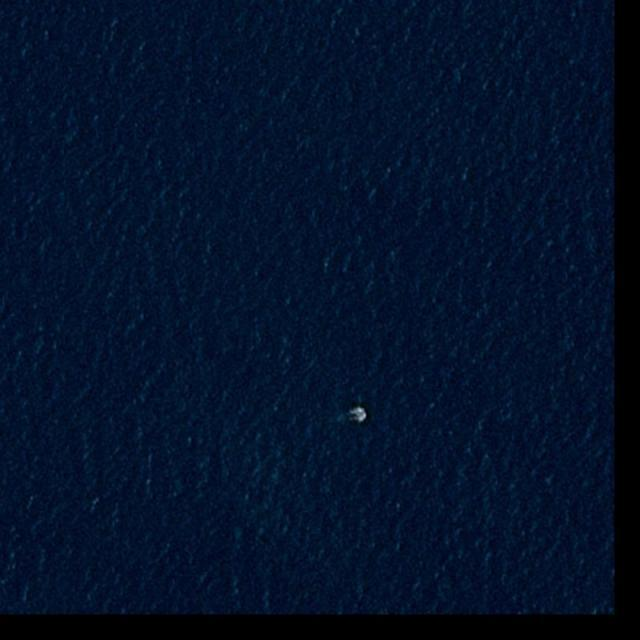ship: (355, 410, 366, 420)
